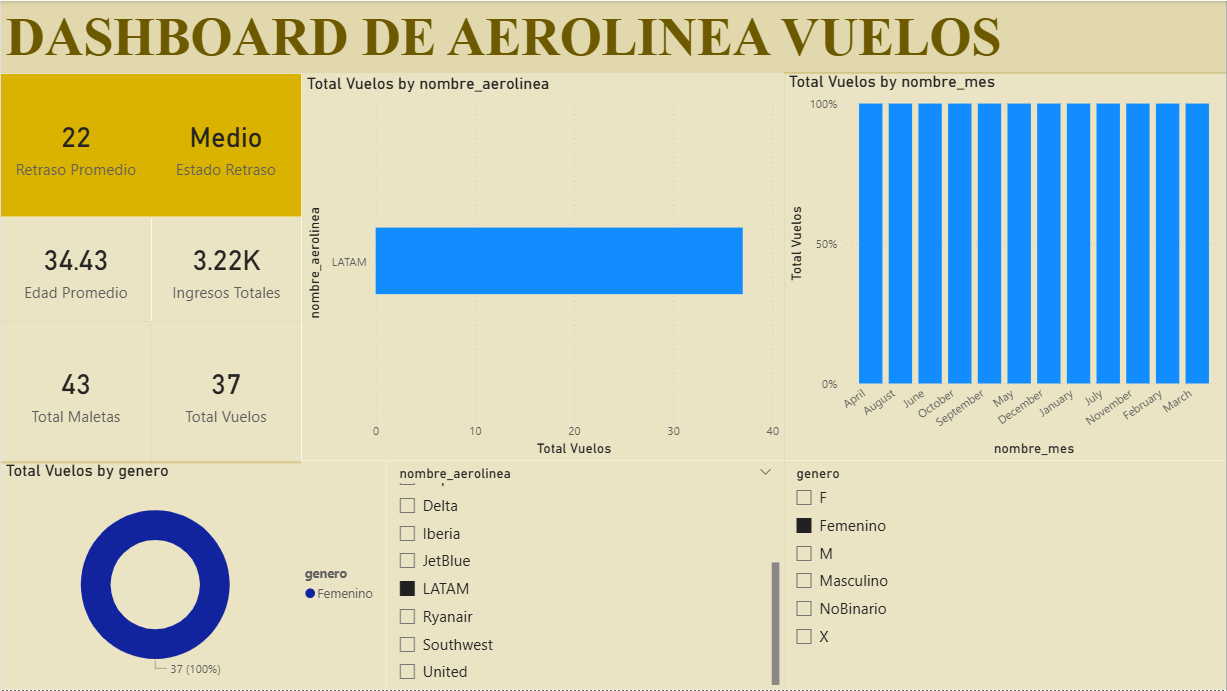

What the dashboard file says about the page in this screenshot:
{"tool":"powerbi","page":{"name":"Page 1","canvas":[1280,720],"ordinal":0},"visuals":[{"type":"textbox","box":[0,0,1280,76.3],"z":0},{"type":"card","fields":{"Values":["Dim_Aerolinea.Retraso Promedio"]},"box":[0,76.3,156.7,149.4],"z":1000},{"type":"card","fields":{"Values":["Dim_Aerolinea.Estado Retraso"]},"box":[156.7,76.3,156.7,149.4],"z":1001},{"type":"card","fields":{"Values":["Dim_Aerolinea.Edad Promedio"]},"box":[0,225.7,156.7,108.7],"z":1002},{"type":"card","fields":{"Values":["Dim_Aerolinea.Total Maletas"]},"box":[0,334.4,156.7,149.4],"z":1003},{"type":"card","fields":{"Values":["Dim_Aerolinea.Total Vuelos"]},"box":[156.7,334.4,156.7,149.4],"z":1004},{"type":"card","fields":{"Values":["Dim_Aerolinea.Ingresos Totales"]},"box":[157.8,225.7,155.7,108.7],"z":1005},{"type":"barChart","fields":{"Category":["Dim_Aerolinea.nombre_aerolinea"],"Y":["Dim_Aerolinea.Total Vuelos"]},"box":[314.5,76.3,503.6,404.4],"z":1006},{"type":"donutChart","fields":{"Category":["Dim_Pasajero.genero"],"Y":["Dim_Aerolinea.Total Vuelos"]},"box":[0,480.7,403.3,239.3],"z":1007},{"type":"hundredPercentStackedColumnChart","fields":{"Y":["Dim_Aerolinea.Total Vuelos"],"Category":["Dim_Tiempo.nombre_mes"]},"box":[818.2,74.2,461.8,406.5],"z":1008},{"type":"slicer","fields":{"Values":["Dim_Aerolinea.nombre_aerolinea"]},"box":[403.3,480.7,414.8,239.3],"z":1009},{"type":"slicer","fields":{"Values":["Dim_Pasajero.genero"]},"box":[818.2,480.7,461.8,239.3],"z":1010}]}

Visuals, with their boxes in screenshot pixels (x1, y1, x2, y2), scaled from the page's 1280x720 canvas onto the 1227x691 screenshot:
textbox: x1=0 y1=0 x2=1226 y2=73
card - Dim_Aerolinea.Retraso Promedio: x1=0 y1=73 x2=150 y2=217
card - Dim_Aerolinea.Estado Retraso: x1=150 y1=73 x2=300 y2=217
card - Dim_Aerolinea.Edad Promedio: x1=0 y1=217 x2=150 y2=321
card - Dim_Aerolinea.Total Maletas: x1=0 y1=321 x2=150 y2=464
card - Dim_Aerolinea.Total Vuelos: x1=150 y1=321 x2=300 y2=464
card - Dim_Aerolinea.Ingresos Totales: x1=151 y1=217 x2=301 y2=321
barChart - Dim_Aerolinea.nombre_aerolinea x Dim_Aerolinea.Total Vuelos: x1=301 y1=73 x2=784 y2=461
donutChart - Dim_Pasajero.genero x Dim_Aerolinea.Total Vuelos: x1=0 y1=461 x2=387 y2=690
hundredPercentStackedColumnChart - Dim_Aerolinea.Total Vuelos x Dim_Tiempo.nombre_mes: x1=784 y1=71 x2=1226 y2=461
slicer - Dim_Aerolinea.nombre_aerolinea: x1=387 y1=461 x2=784 y2=690
slicer - Dim_Pasajero.genero: x1=784 y1=461 x2=1226 y2=690
